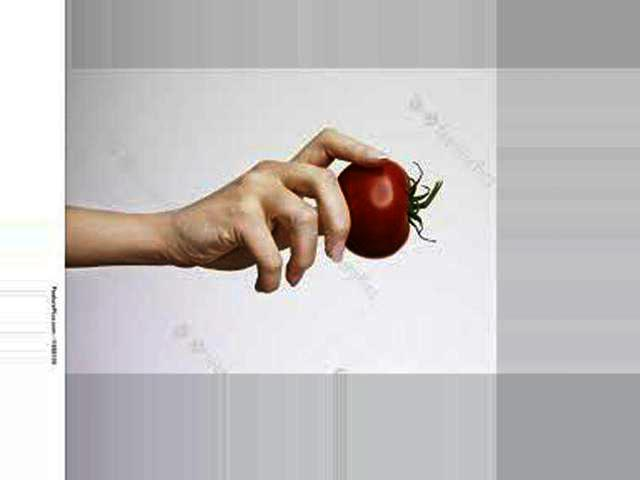tomato: (338, 160, 440, 257)
